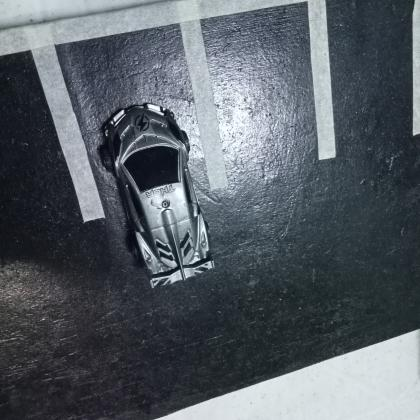Car: (101, 100, 219, 290)
